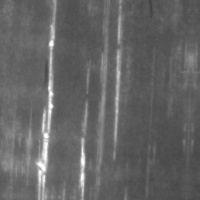scratches: (32, 0, 60, 196), (106, 0, 128, 160), (73, 68, 95, 199)
